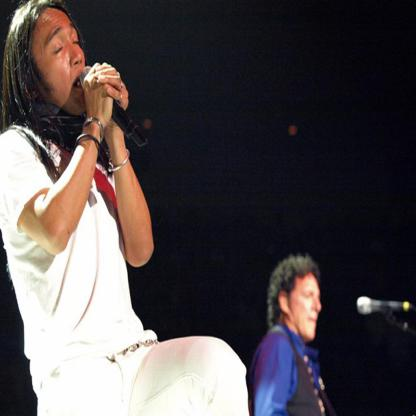face: (29, 9, 91, 115), (288, 268, 324, 340)
